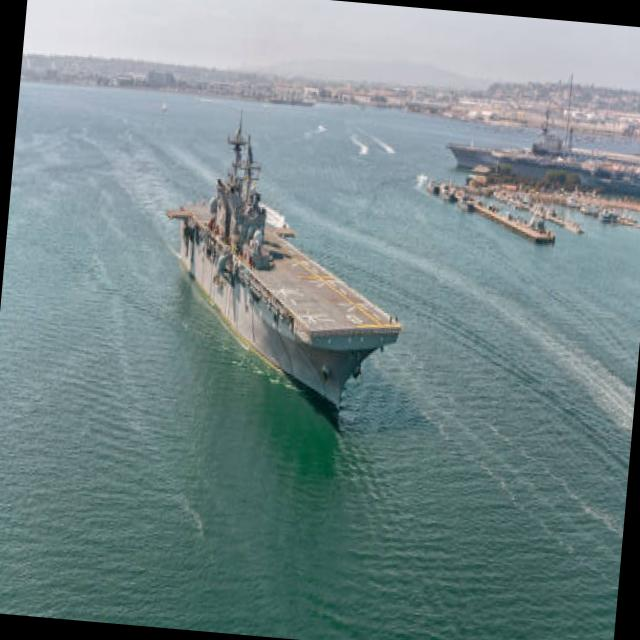Military: (165, 108, 403, 438), (446, 73, 640, 193)
